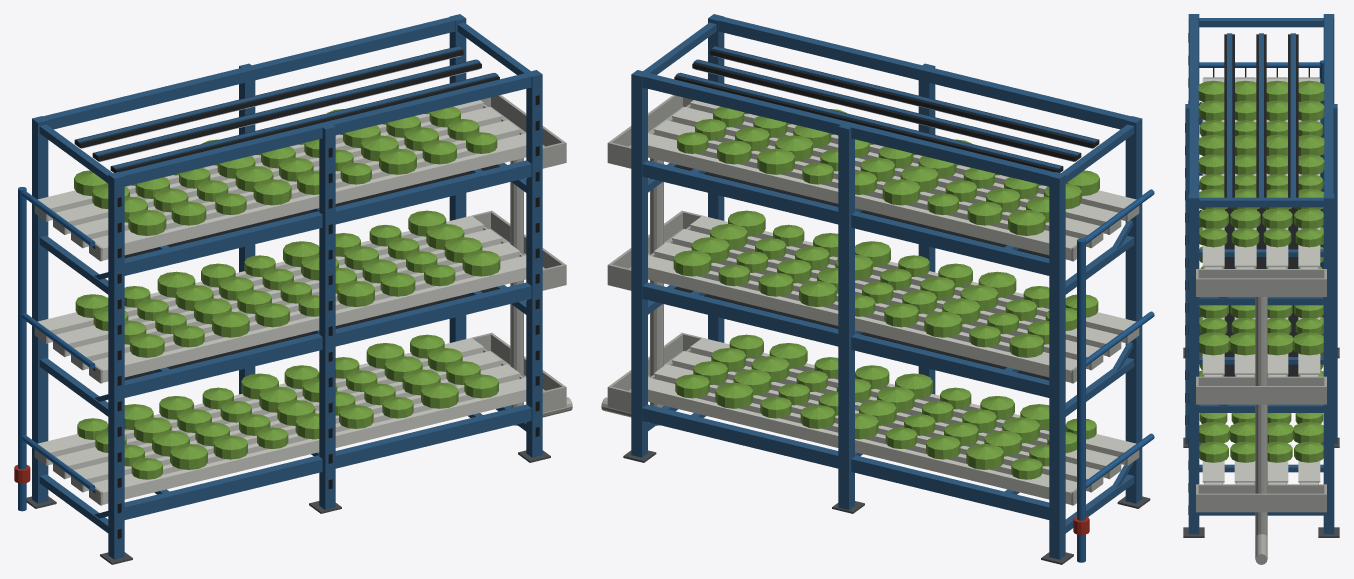
3 views of the same model, side by side, from view 1: azimuth 30°, elevation 25°; view 2: azimuth 150°, elevation 25°; view 3: azimuth 270°, elevation 25° (orthographic). The views are drawn at different scales.
Visible parts, largest first — view 1: beam-2--380, beam-0--380, beam-1--380, top-beam-380, top-beam--380, upright--1200--380, upright-0--380, upright-1200--380, upright--1200-380, gutter-1-0, gutter-0-0, gutter-2-0 (+73 smaller); view 2: beam-1-380, beam-2-380, beam-0-380, top-beam--380, top-beam-380, upright--1200-380, upright-0-380, upright-1200-380, upright--1200--380, gutter-1-3, gutter-0-3, gutter-2-3 (+72 smaller); view 3: upright-1200-380, upright-1200--380, return-collector-0, return-collector-1, return-collector-2, return-drop, top-beam--380, top-beam-380, upright-0-380, upright-0--380, end-tie-1200-2040, end-tie--1200-2040 (+94 smaller).
Boxes of the visible parts, x1,y1,x2,y2 form: beam-2--380: (124, 160, 531, 275); beam-0--380: (124, 404, 531, 519); beam-1--380: (124, 282, 531, 397); top-beam-380: (42, 16, 459, 129); top-beam--380: (114, 72, 535, 186); upright--1200--380: (108, 172, 124, 559); upright-0--380: (319, 122, 335, 509); upright-1200--380: (526, 70, 542, 457); upright--1200-380: (32, 116, 48, 503); gutter-1-0: (102, 269, 526, 382); gutter-0-0: (102, 391, 526, 504); gutter-2-0: (102, 147, 526, 260); beam-1-380: (642, 282, 1049, 397); beam-2-380: (642, 160, 1049, 275); beam-0-380: (642, 404, 1049, 519); top-beam--380: (714, 17, 1133, 129); top-beam-380: (638, 72, 1059, 186); upright--1200-380: (1049, 172, 1065, 559); upright-0-380: (838, 122, 854, 509); upright-1200-380: (631, 70, 647, 457); upright--1200--380: (1125, 116, 1142, 503); gutter-1-3: (648, 269, 1071, 382); gutter-0-3: (648, 391, 1071, 504); gutter-2-3: (648, 147, 1071, 260); upright-1200-380: (1323, 194, 1334, 534); upright-1200--380: (1188, 194, 1199, 534); return-collector-0: (1196, 484, 1326, 512); return-collector-1: (1196, 376, 1326, 404); return-collector-2: (1196, 269, 1326, 296); return-drop: (1255, 297, 1267, 536); top-beam--380: (1189, 16, 1198, 195); top-beam-380: (1324, 16, 1333, 195); upright-0-380: (1333, 104, 1337, 444); upright-0--380: (1185, 104, 1189, 444); end-tie-1200-2040: (1199, 197, 1323, 207); end-tie--1200-2040: (1199, 18, 1323, 27).
Size of the model in its own units: 2.98 by 2.1 by 0.88.
